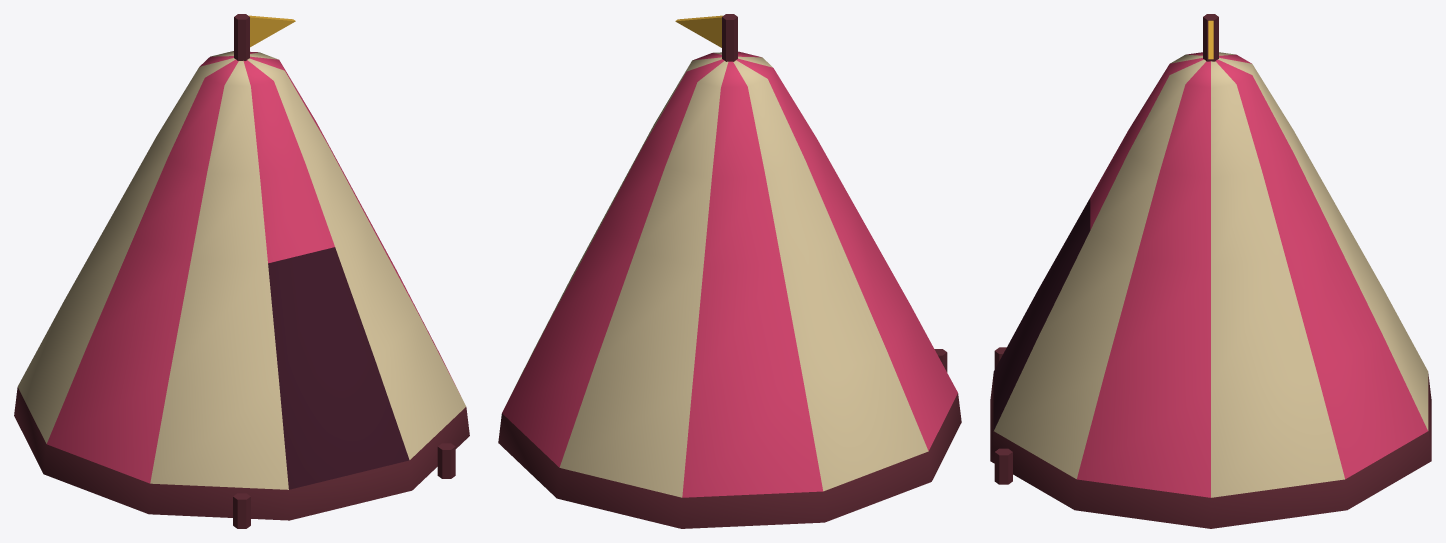
The model's file is citrus-hide.glb.
3 renders of one model, left to right at view 1: azimuth 30°, elevation 25°; view 2: azimuth 150°, elevation 25°; view 3: azimuth 270°, elevation 25°, orthographic.
Parts seen in each view (by area): view 1: citrus-hide; view 2: citrus-hide; view 3: citrus-hide.
Part boxes in pixels (x1,y1,x2,y2): citrus-hide: (14,14,469,528); citrus-hide: (498,14,961,528); citrus-hide: (990,14,1431,528).
Size of the model in its own units: 1.28 by 1.26 by 1.22.
